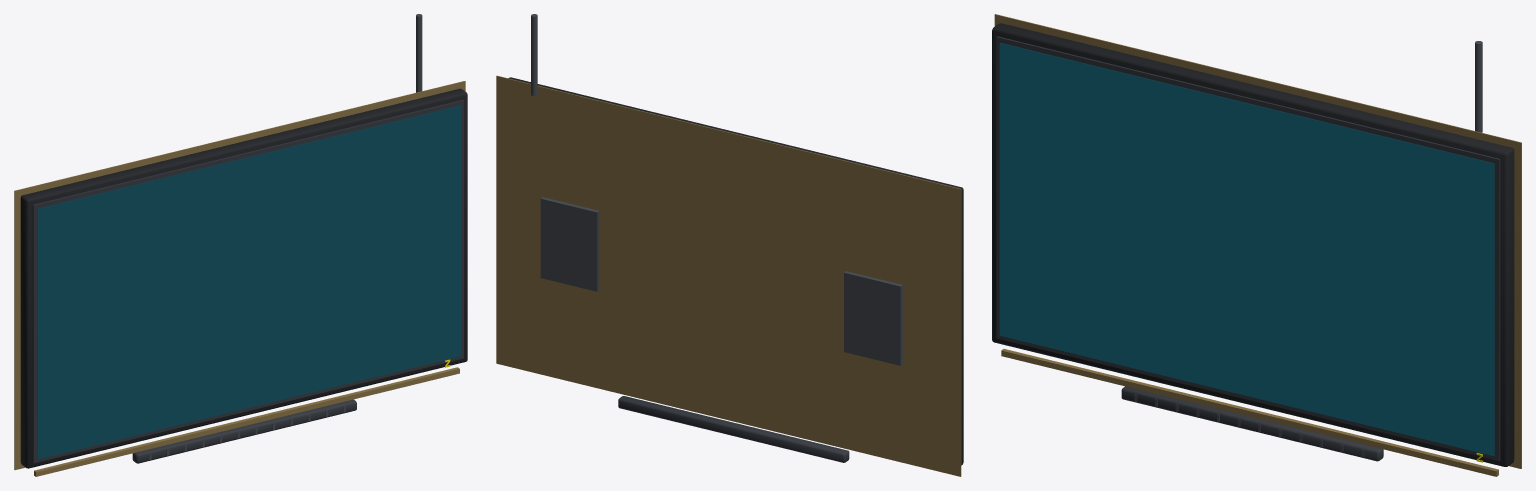
Rendered from wall_screen.glb.
3 views of the same model, side by side, from view 1: azimuth 30°, elevation 25°; view 2: azimuth 150°, elevation 25°; view 3: azimuth 330°, elevation 25° (orthographic). The views are drawn at different scales.
Parts seen in each view (by area): view 1: Screen, Body; view 2: Body; view 3: Screen, Body.
Part boxes in pixels (<box>): Screen: <box>37,105,460,459</box>; Body: <box>14,14,467,476</box>; Body: <box>496,14,963,476</box>; Screen: <box>999,43,1494,456</box>; Body: <box>992,14,1521,476</box>.
Bounding box in the file's own units: 2.45 × 1.92 × 0.1655.
